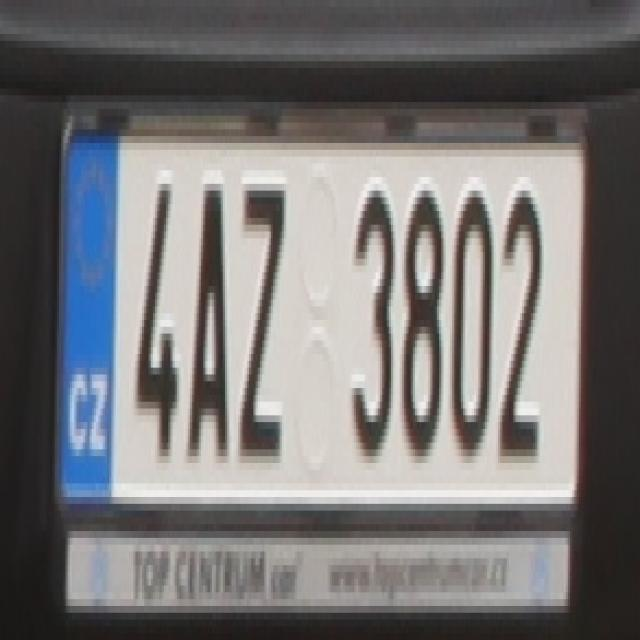0: (452, 184, 492, 456)
2: (501, 177, 544, 456)
3: (352, 177, 395, 456)
4: (131, 177, 177, 456)
8: (402, 177, 444, 456)
A: (186, 177, 227, 456)
Z: (236, 170, 284, 463)
